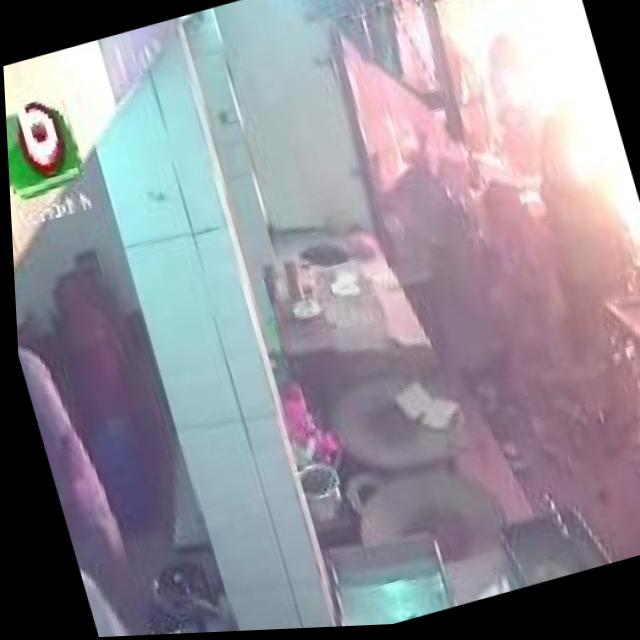fire: (426, 0, 640, 283)
